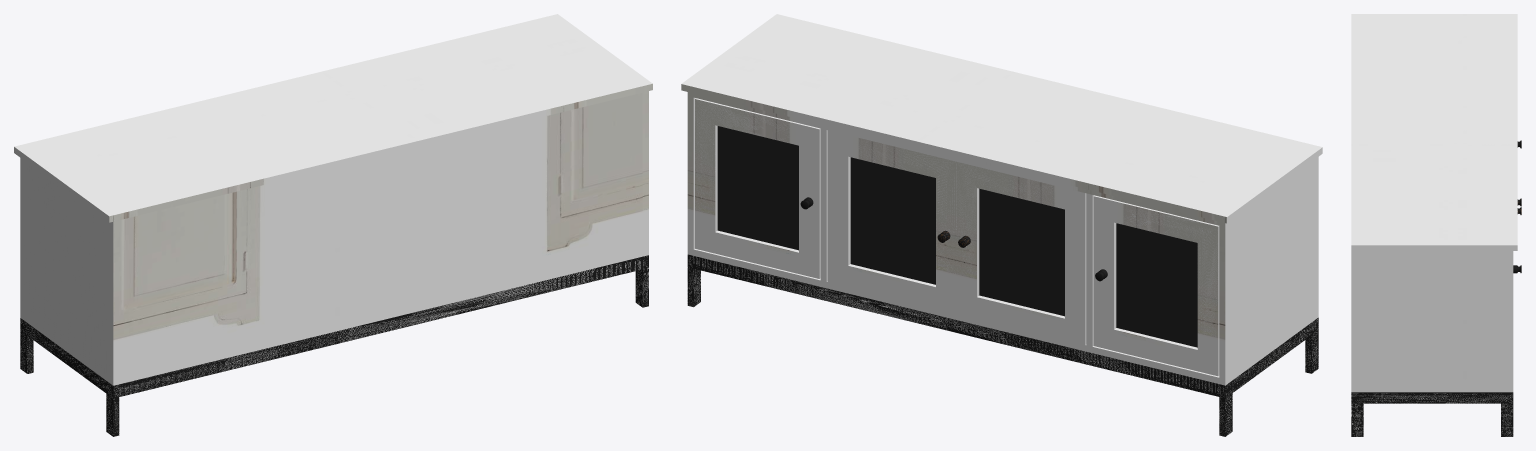
The picture shows the model from 3 angles, left to right: view 1: azimuth 30°, elevation 25°; view 2: azimuth 150°, elevation 25°; view 3: azimuth 270°, elevation 25°; orthographic projection. The views are drawn at different scales.
Visible parts, largest first — view 1: mesh7_mesh7-geometry; view 2: mesh7_mesh7-geometry, mesh6_mesh6-geometry, mesh4_mesh4-geometry, mesh2_mesh2-geometry, mesh10_mesh10-geometry; view 3: mesh7_mesh7-geometry.
Boxes of the visible parts, bbox=[...] form: mesh7_mesh7-geometry: bbox=[14, 14, 652, 436]; mesh7_mesh7-geometry: bbox=[681, 14, 1322, 436]; mesh6_mesh6-geometry: bbox=[956, 162, 1086, 344]; mesh4_mesh4-geometry: bbox=[827, 130, 956, 313]; mesh2_mesh2-geometry: bbox=[1093, 195, 1219, 376]; mesh10_mesh10-geometry: bbox=[695, 98, 820, 278]; mesh7_mesh7-geometry: bbox=[1351, 14, 1517, 436].
Size of the model in its own units: 0.895 by 0.3486 by 0.2782.
